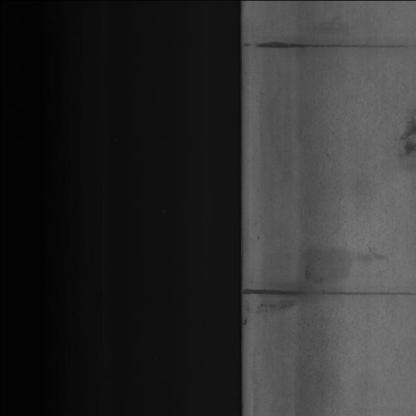crease: (242, 27, 406, 77), (239, 274, 409, 310)
